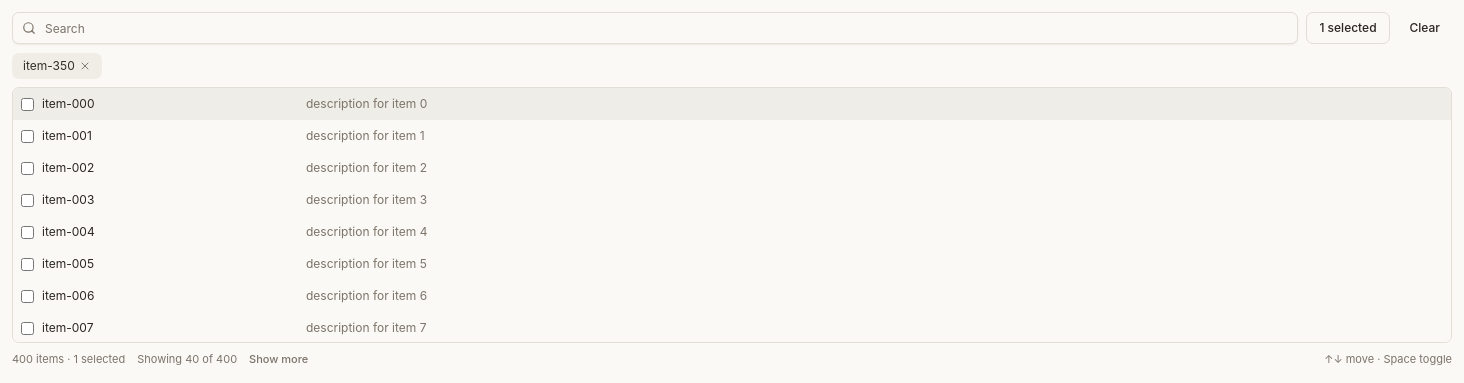
Test case: EntityPicker selection › keeps a selected item reachable at length through the selected-only filter
Click the button "1 selected" at (1348, 28), box [1306,12,1390,44]
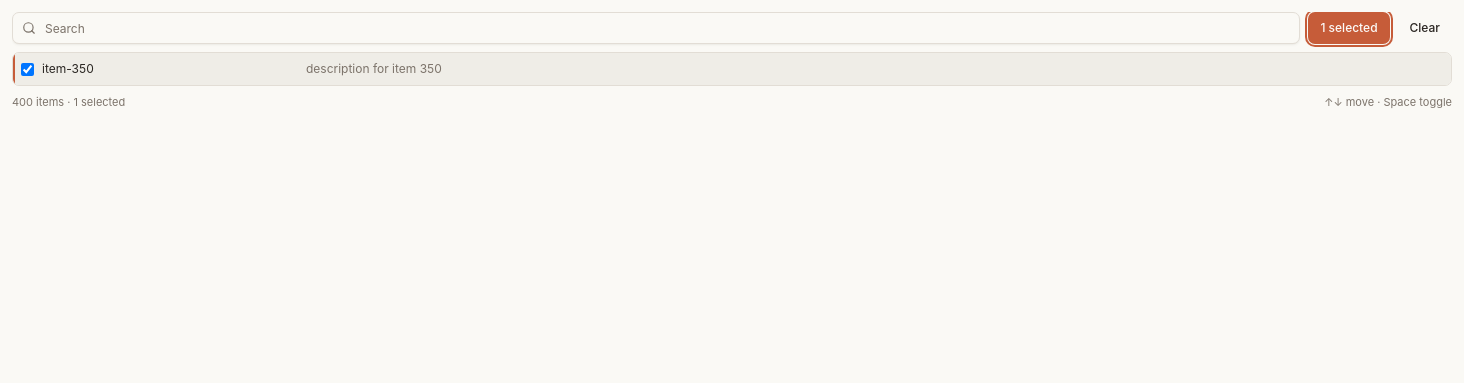
Expected: the text "item-350" is shown, [42,61,94,76]
Expected: the number of checkboxes is 1, [21,62,34,76]
